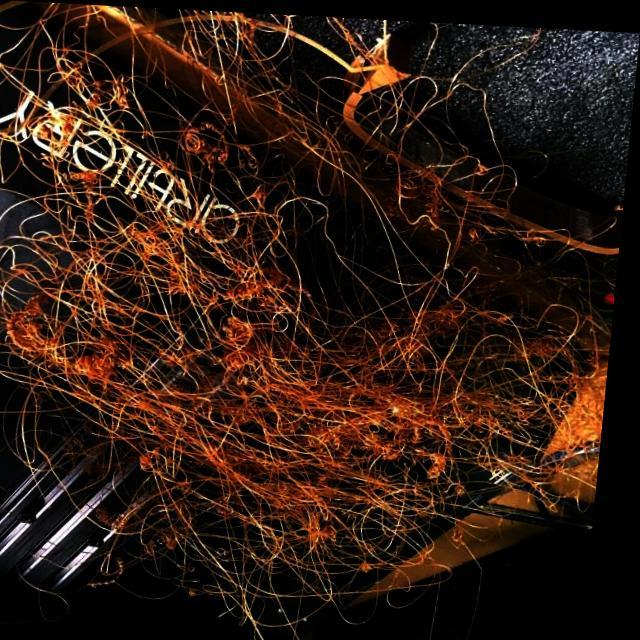spaghetti: (191, 429, 412, 624), (131, 268, 326, 416), (317, 291, 470, 437), (104, 412, 222, 570), (465, 327, 579, 467), (28, 66, 153, 189), (1, 247, 133, 363), (374, 194, 504, 311), (150, 149, 267, 272), (183, 11, 302, 128), (373, 436, 471, 573), (11, 356, 125, 464), (334, 91, 457, 191)
